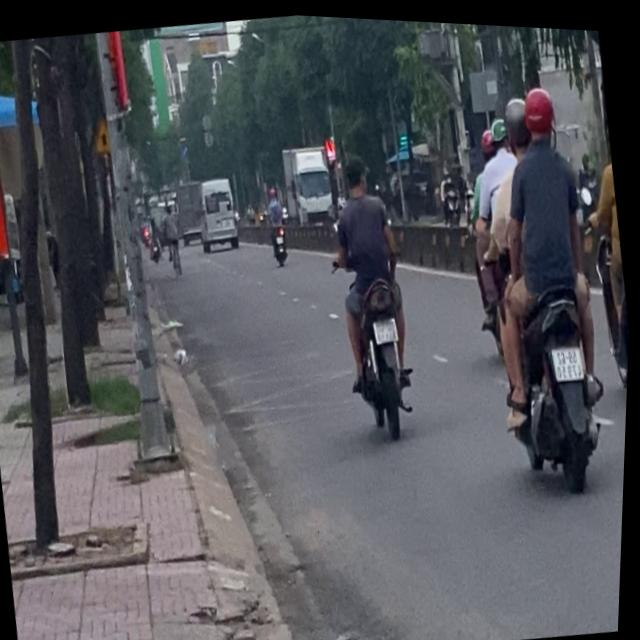helmet: (520, 76, 563, 142), (501, 89, 535, 147), (491, 111, 512, 146), (480, 121, 499, 154)
licenseplate: (456, 69, 635, 497), (318, 142, 436, 439), (574, 99, 638, 395)
motorcyclist: (344, 148, 373, 192)
nohelmet: (554, 338, 589, 375), (376, 312, 402, 339)
